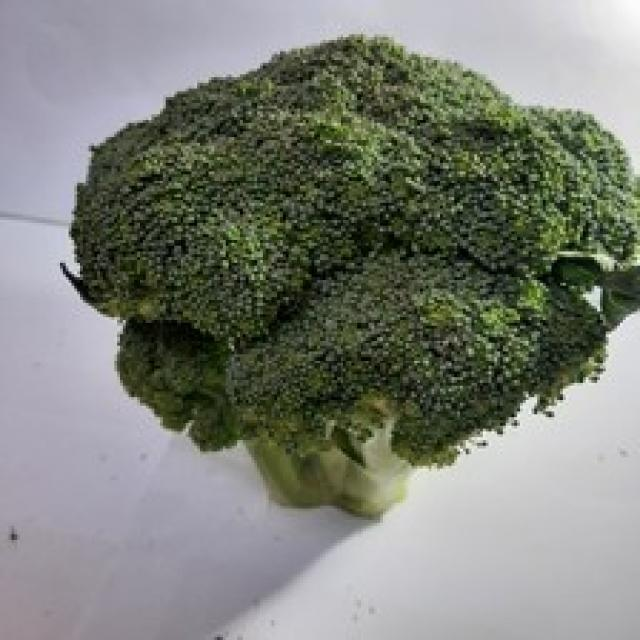Broccoli: (65, 36, 636, 516), (65, 36, 636, 516)
